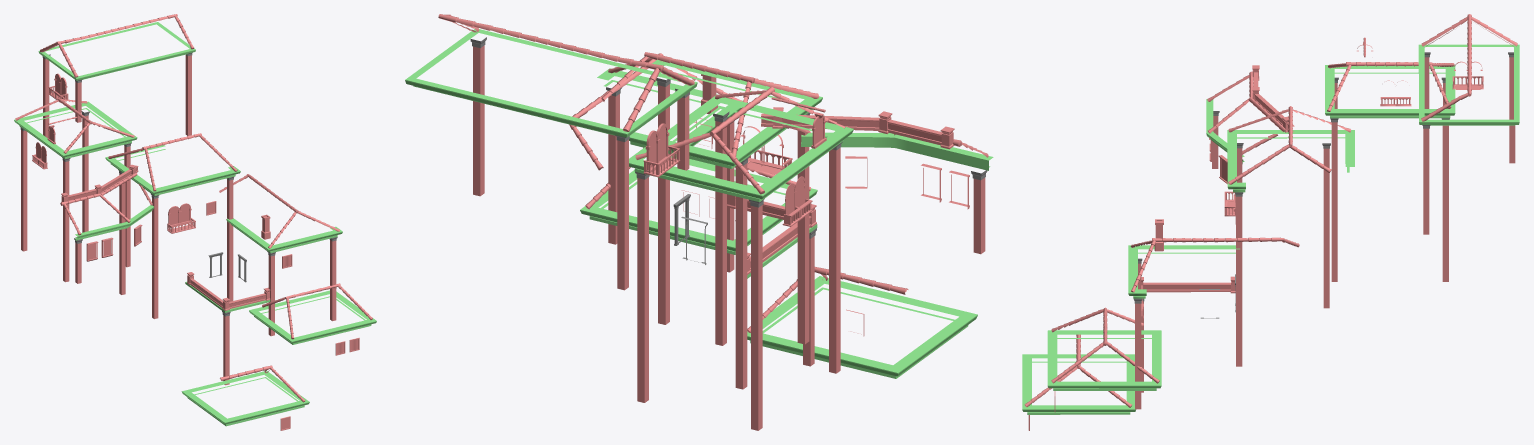
The model's file is S_Envi_Fyz_BuildingMerge_01a.gltf.
The picture shows the model from 3 angles, left to right: view 1: azimuth 30°, elevation 25°; view 2: azimuth 150°, elevation 25°; view 3: azimuth 270°, elevation 25°; orthographic projection. The views are drawn at different scales.
Visible parts, largest first — view 1: S_Envi_Fyz_BuildingMerge_01a; view 2: S_Envi_Fyz_BuildingMerge_01a; view 3: S_Envi_Fyz_BuildingMerge_01a.
Boxes of the visible parts, x1,y1,x2,y2 form: S_Envi_Fyz_BuildingMerge_01a: [14, 14, 376, 430]; S_Envi_Fyz_BuildingMerge_01a: [405, 14, 993, 430]; S_Envi_Fyz_BuildingMerge_01a: [1022, 14, 1519, 430].
Bounding box in the file's own units: 29.79 × 33.44 × 40.37.
